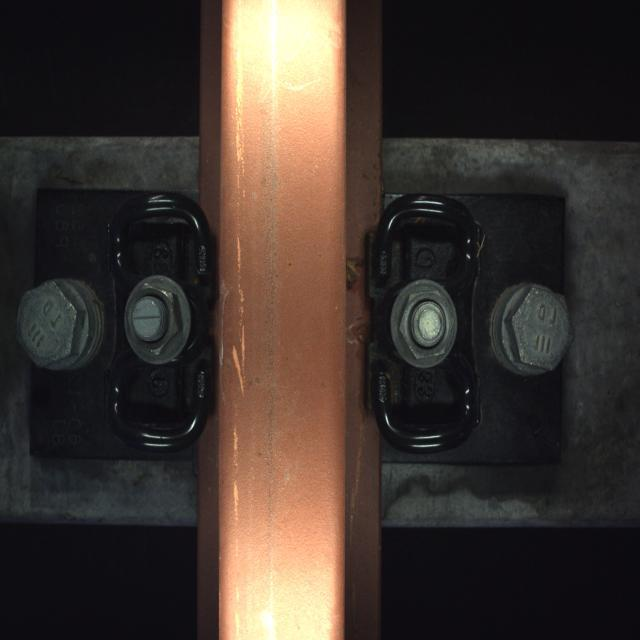break: (225, 15, 326, 621)
